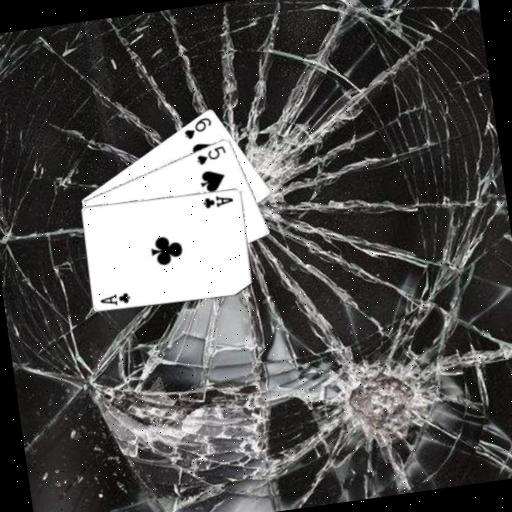5S: (193, 142, 229, 167)
6S: (179, 113, 215, 141)
AC: (97, 288, 133, 309), (200, 191, 236, 211)
